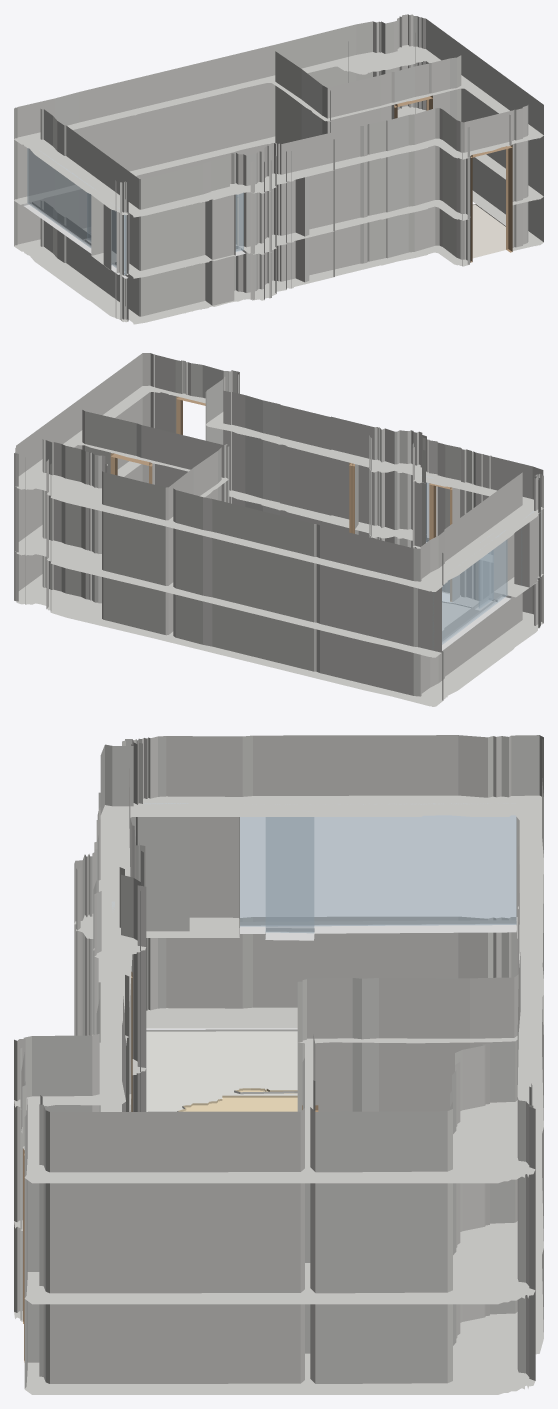
The picture shows the model from 3 angles, top to bottom: view 1: azimuth 30°, elevation 25°; view 2: azimuth 150°, elevation 25°; view 3: azimuth 270°, elevation 25°; orthographic projection. The views are drawn at different scales.
Visible parts, largest first — view 1: walls, window_4, floor_2_Entry, door_3, sill_4, window_8; view 2: walls, window_4, sill_4, window_5, door_1, floor_7_Undefined; view 3: walls, window_4, floor_7_Undefined, window_5, sill_4, floor_0_Kitchen.
Boxes of the visible parts, <box> form: walls: <box>14,14,543,324</box>; window_4: <box>27,148,95,247</box>; floor_2_Entry: <box>472,204,505,258</box>; door_3: <box>470,145,512,262</box>; sill_4: <box>23,202,91,253</box>; window_8: <box>235,192,243,251</box>; walls: <box>14,353,543,706</box>; window_4: <box>433,530,507,645</box>; sill_4: <box>442,594,511,650</box>; window_5: <box>479,536,493,607</box>; door_1: <box>429,483,452,601</box>; floor_7_Undefined: <box>442,601,471,630</box>; walls: <box>14,735,543,1394</box>; window_4: <box>240,803,516,926</box>; floor_7_Undefined: <box>146,1029,297,1111</box>; window_5: <box>265,817,314,933</box>; sill_4: <box>240,920,516,933</box>; floor_0_Kitchen: <box>178,1088,297,1111</box>.
Bounding box in the file's own units: 8.25 × 2.72 × 4.77.
